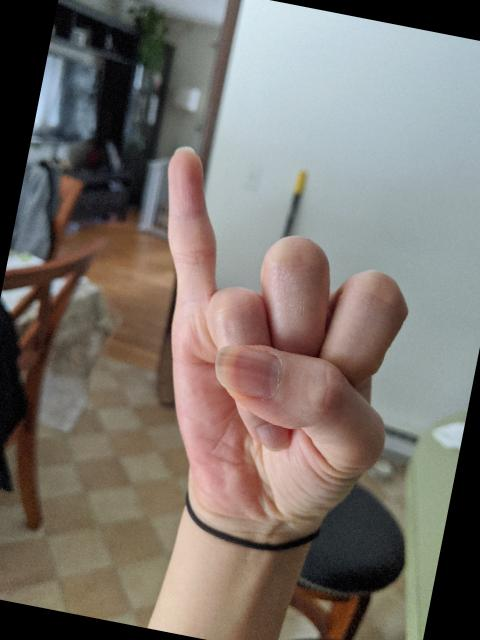I: (99, 138, 440, 554)
